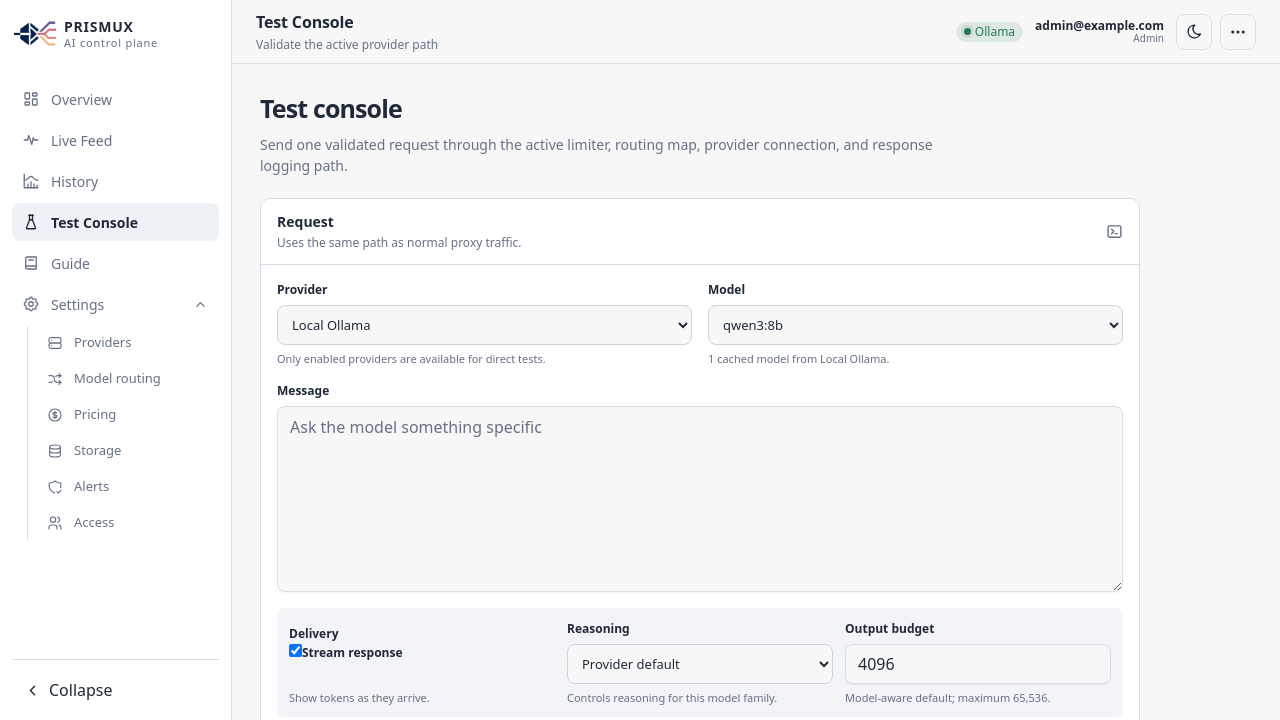
dashboard application › renders Test Console responses as safe structured Markdown
Check: the dropdown labelled "Provider" is shown, box [277,304,692,344]
Type "Show a Fibonacci function" into the text box labelled "Message" at (700, 499), box [277,406,1123,592]
(page scrolled)
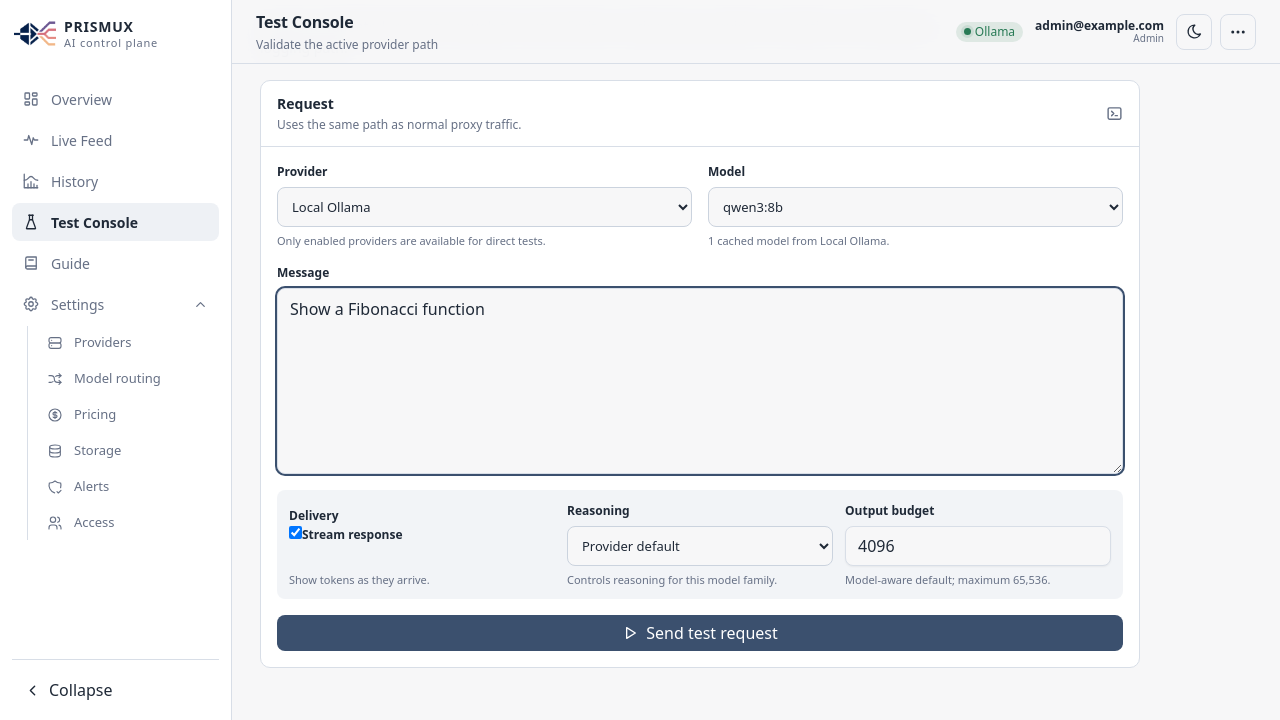
Click the button "Send test request" at (700, 633), box [277,615,1123,651]
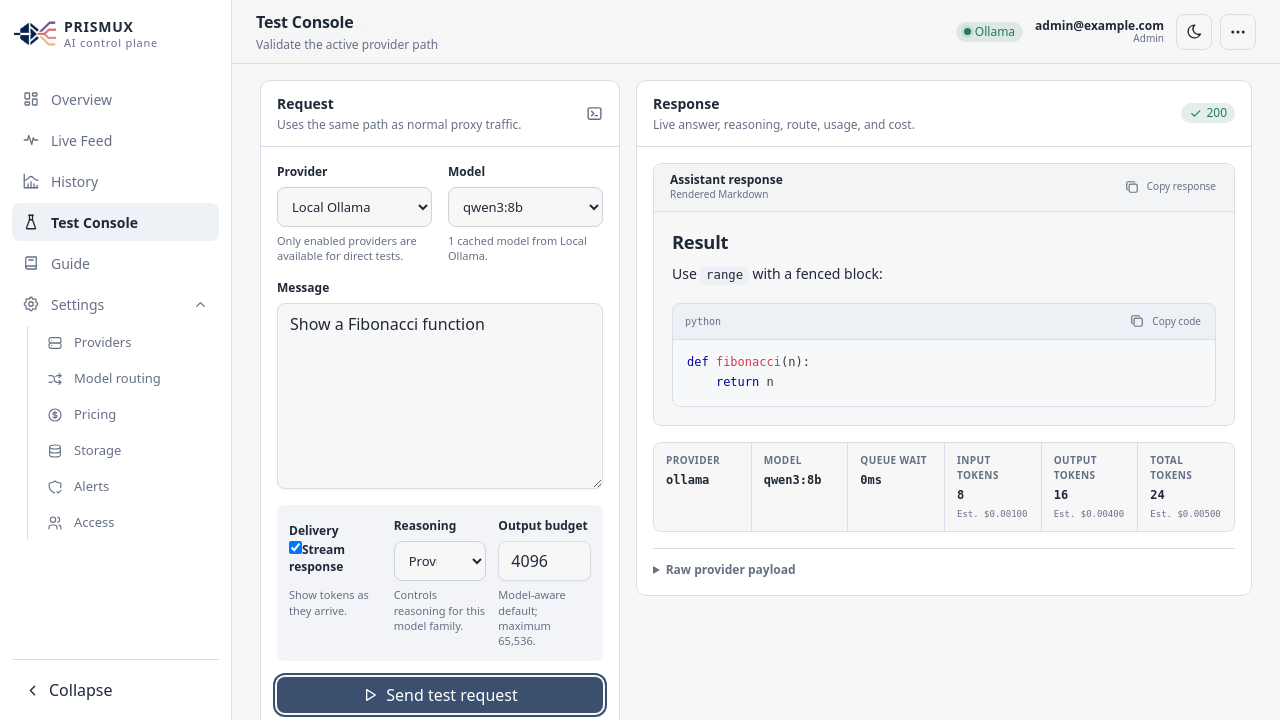
Check: the heading "Result" is shown, box [672,228,728,254]
Check: the text "range" is shown, box [700,266,749,285]
Check: the element named "python code" shows "def fibonacci", box [673,340,1215,406]
